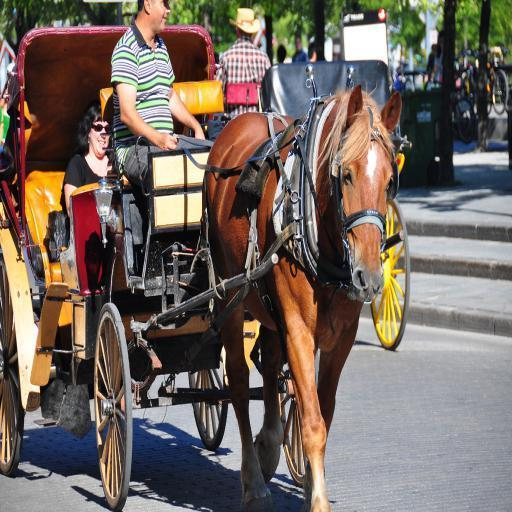horse: (200, 81, 404, 512)
